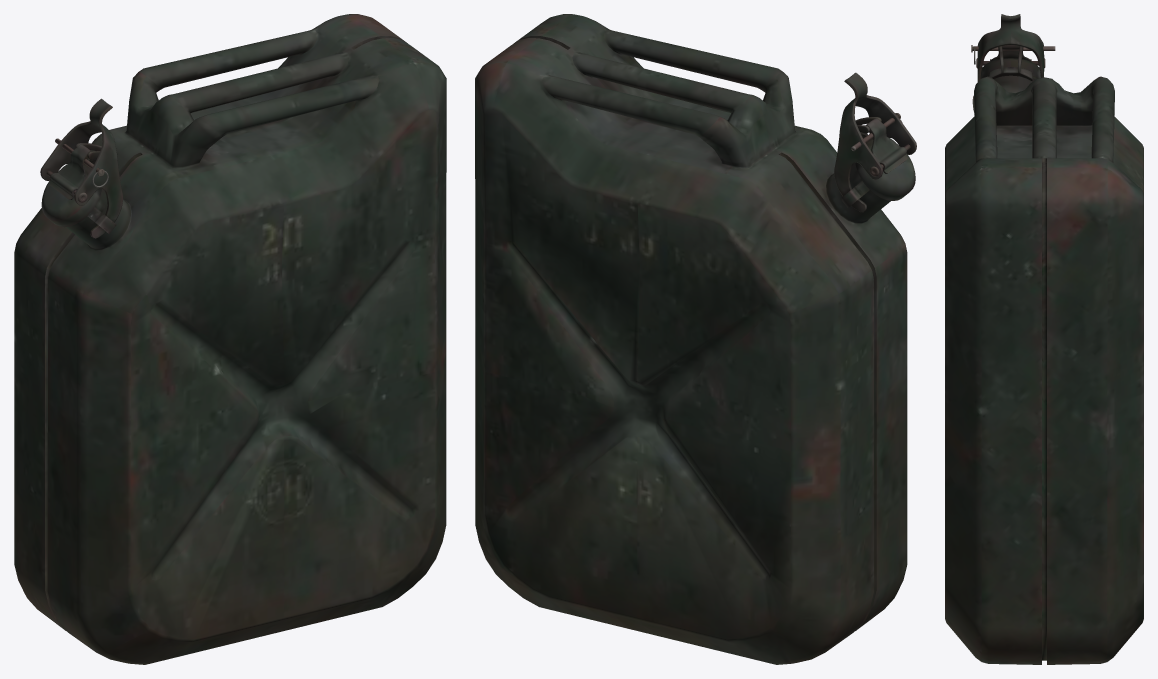
Rendered from metal_jerrycan_green.glb.
3 views of the same model, side by side, from view 1: azimuth 30°, elevation 25°; view 2: azimuth 150°, elevation 25°; view 3: azimuth 270°, elevation 25° (orthographic). The views are drawn at different scales.
Visible parts, largest first — view 1: metal_jerrycan_green_pin; view 2: metal_jerrycan_green_pin; view 3: metal_jerrycan_green_pin.
Part boxes in pixels (x1=…): metal_jerrycan_green_pin: x1=14, y1=14, x2=446, y2=664; metal_jerrycan_green_pin: x1=475, y1=14, x2=916, y2=664; metal_jerrycan_green_pin: x1=945, y1=14, x2=1143, y2=664.
Bounding box in the file's own units: 0.3604 × 0.4999 × 0.1709.
Materials: 1 (1 with a texture image).
